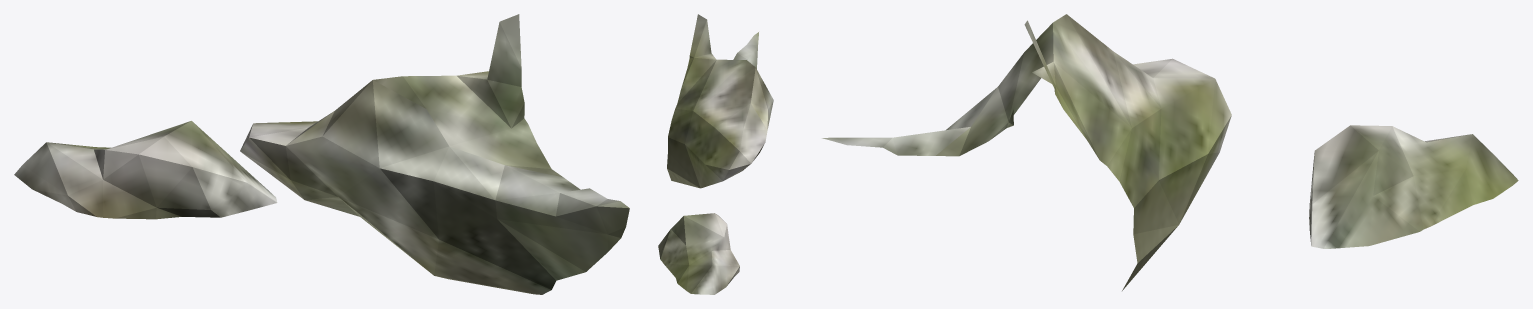
The picture shows the model from 3 angles, left to right: view 1: azimuth 30°, elevation 25°; view 2: azimuth 150°, elevation 25°; view 3: azimuth 270°, elevation 25°; orthographic projection. The views are drawn at different scales.
Bounding box in the file's own units: 0.4654 × 0.4453 × 1.07.
1 material, 1 textured.
